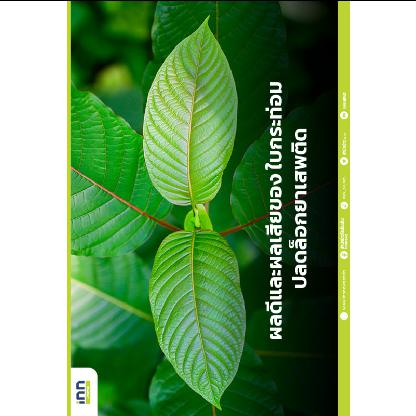kratom: (146, 14, 240, 209), (152, 221, 248, 409)
